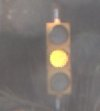Yellow: (40, 17, 75, 109)
